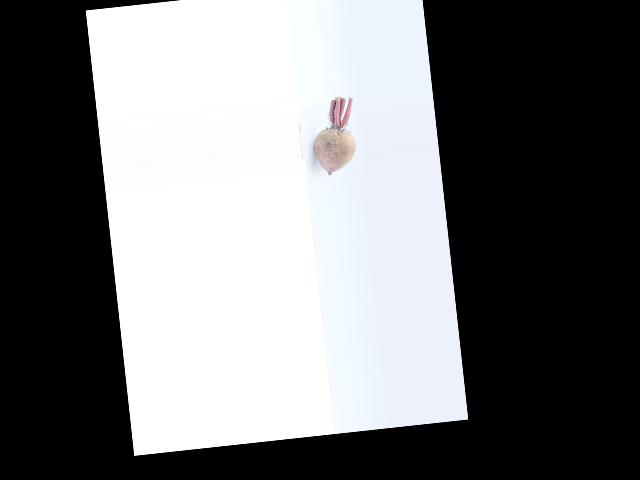beet: (309, 96, 359, 175)
